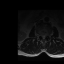CCS_normal: (42, 33, 44, 40)
LFS_severe_stenosis: (46, 34, 47, 37)
LLS_stenosis: (44, 34, 46, 38)
RFS_stenosis: (39, 33, 41, 37)
RLS_stenosis: (41, 34, 42, 38)
